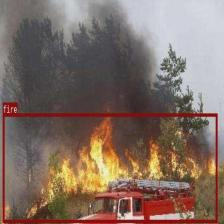fire: (2, 113, 218, 222)
